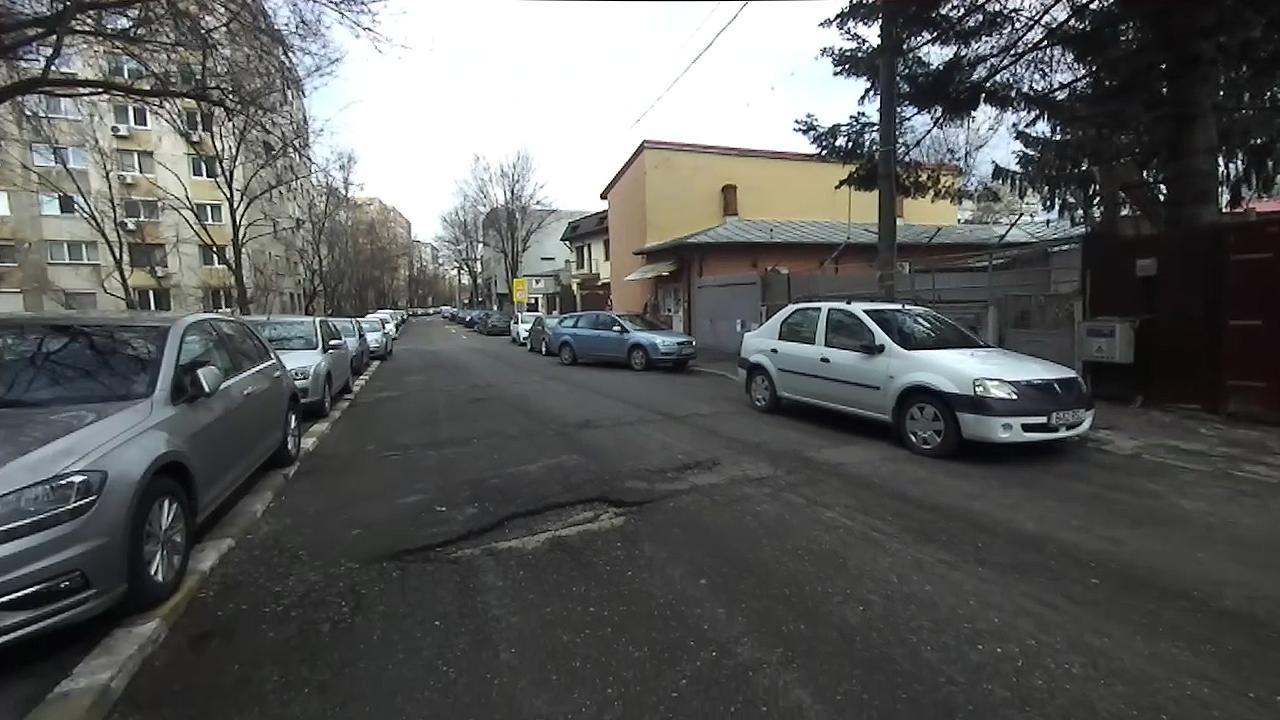pothole: (380, 493, 675, 559), (646, 452, 726, 479)
